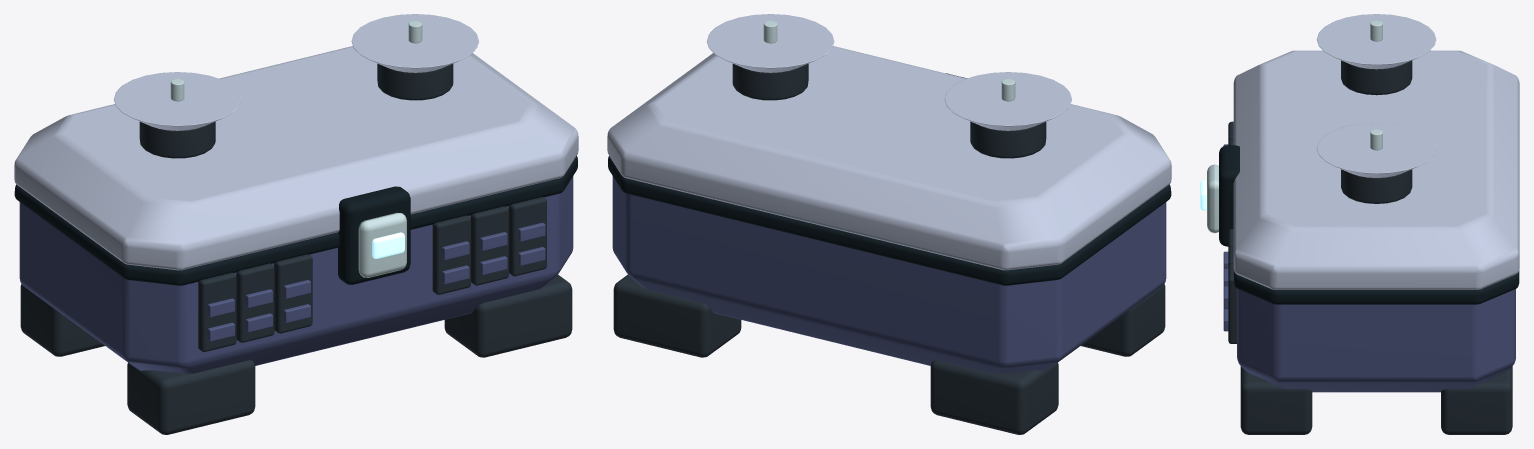
The model's file is salvage_cache.glb.
3 renders of one model, left to right at view 1: azimuth 30°, elevation 25°; view 2: azimuth 150°, elevation 25°; view 3: azimuth 270°, elevation 25°, orthographic. The views are drawn at different scales.
Visible parts, largest first — view 1: Telemetry flight case; view 2: Telemetry flight case; view 3: Telemetry flight case.
Part boxes in pixels (x1,y1,x2,y2): Telemetry flight case: (14,14,578,434); Telemetry flight case: (607,14,1171,434); Telemetry flight case: (1200,14,1519,434).
Size of the model in its own units: 1.38 by 0.82 by 0.893.
